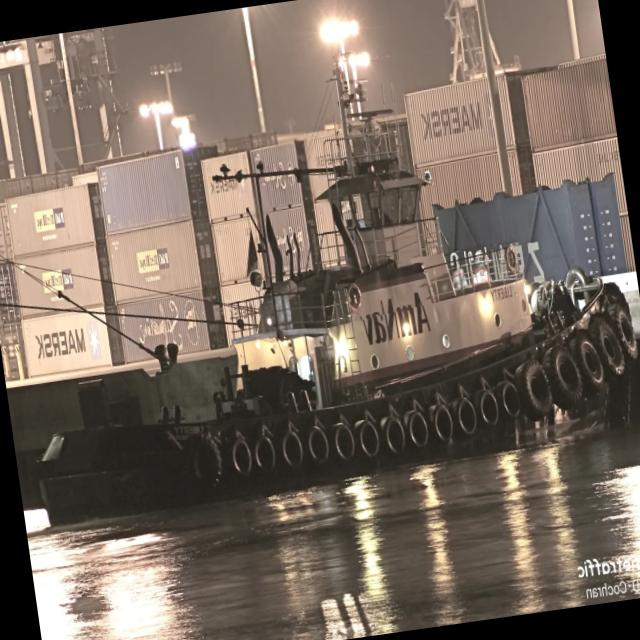Tug: (37, 50, 637, 517)
